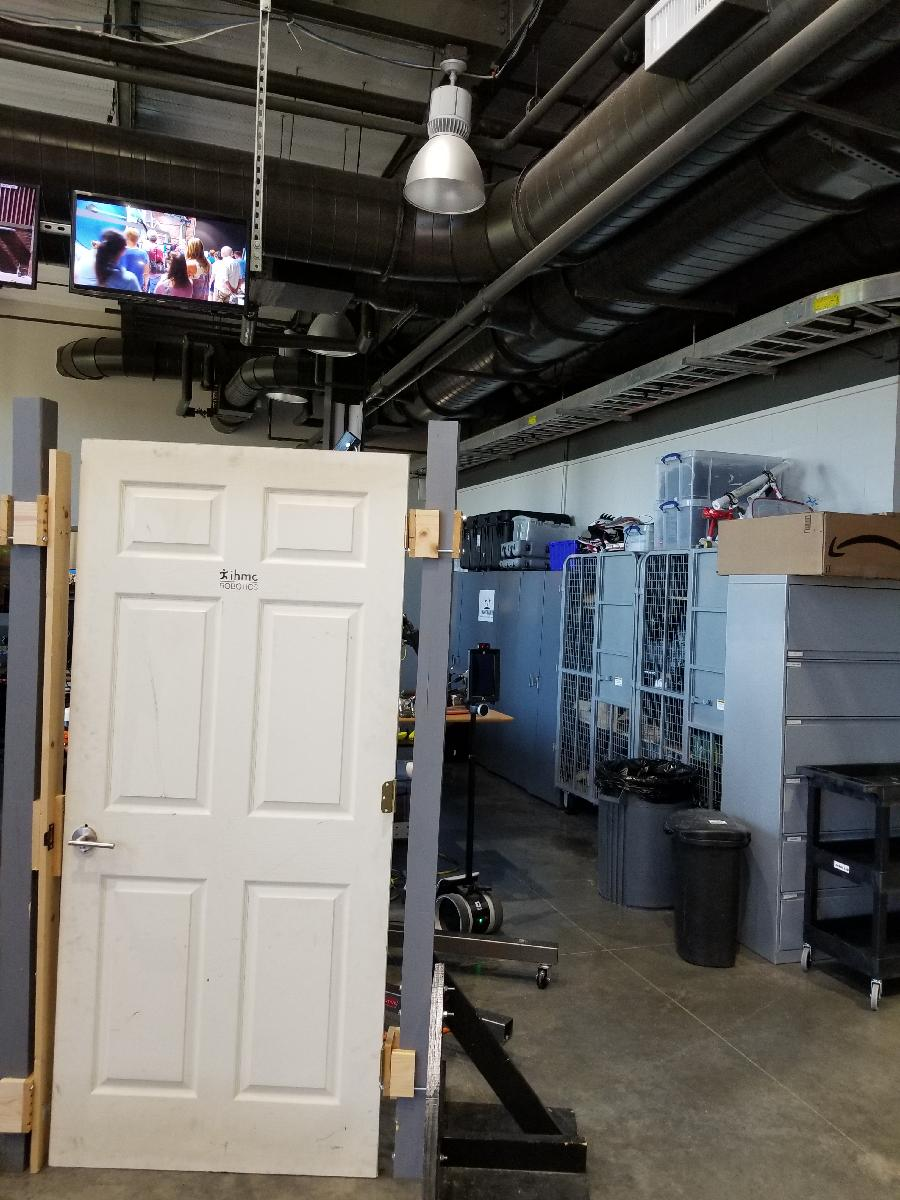door: (42, 434, 416, 1186)
doorHandle: (69, 825, 117, 855)
